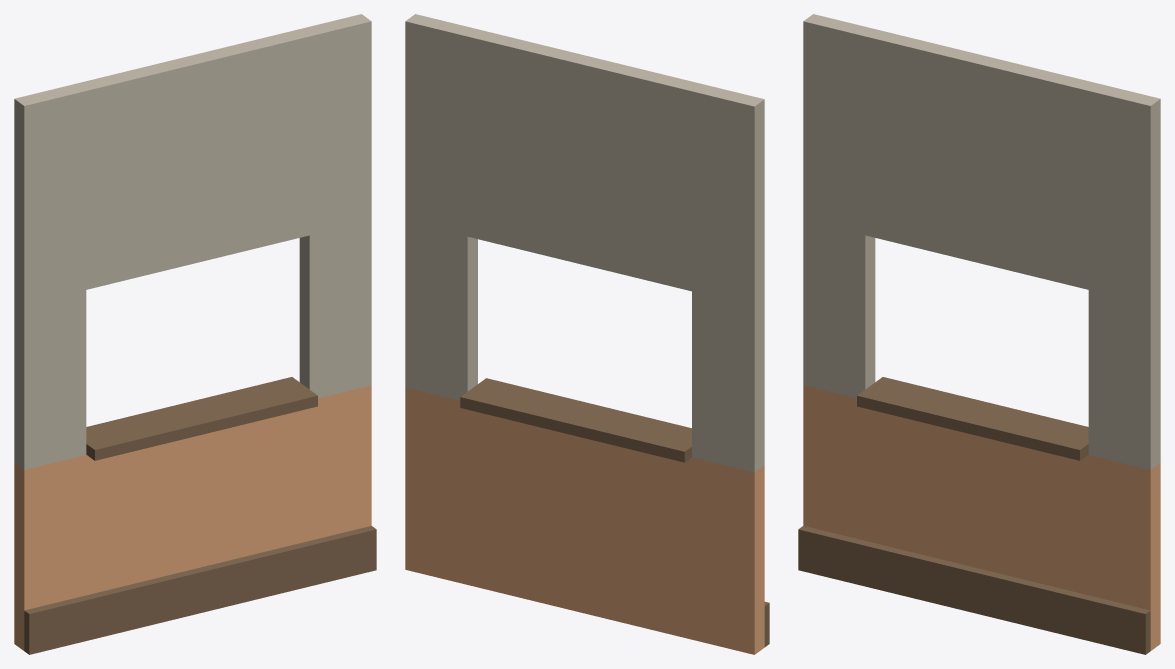
Rendered from Mesh_WallBaseboard2Colors_C3.fbx.
3 views of the same model, side by side, from view 1: azimuth 30°, elevation 25°; view 2: azimuth 150°, elevation 25°; view 3: azimuth 330°, elevation 25° (orthographic).
Visible parts, largest first — view 1: Mesh_WallBaseboard2Colors_C3; view 2: Mesh_WallBaseboard2Colors_C3; view 3: Mesh_WallBaseboard2Colors_C3.
Part boxes in pixels (x1,y1,x2,y2): Mesh_WallBaseboard2Colors_C3: (14,14,376,654); Mesh_WallBaseboard2Colors_C3: (405,14,769,654); Mesh_WallBaseboard2Colors_C3: (798,14,1160,654).
Size of the model in its own units: 2 by 3 by 0.2574.
